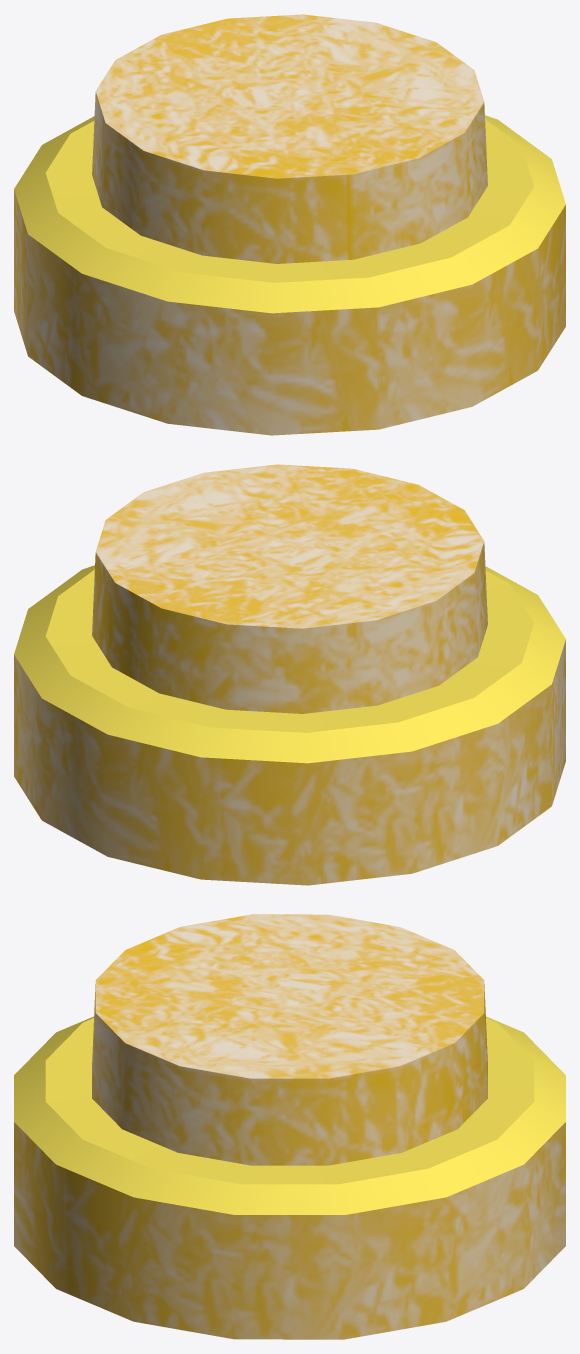
The model's file is truvang.fbx.
3 views of the same model, one above another, from view 1: azimuth 30°, elevation 25°; view 2: azimuth 150°, elevation 25°; view 3: azimuth 270°, elevation 25° (orthographic).
Visible parts, largest first — view 1: stand2.004; view 2: stand2.004; view 3: stand2.004.
Boxes of the visible parts, x1,y1,x2,y2 form: stand2.004: (14, 14, 565, 435); stand2.004: (14, 464, 565, 885); stand2.004: (14, 914, 565, 1339).
Size of the model in its own units: 195 by 88.04 by 195.
